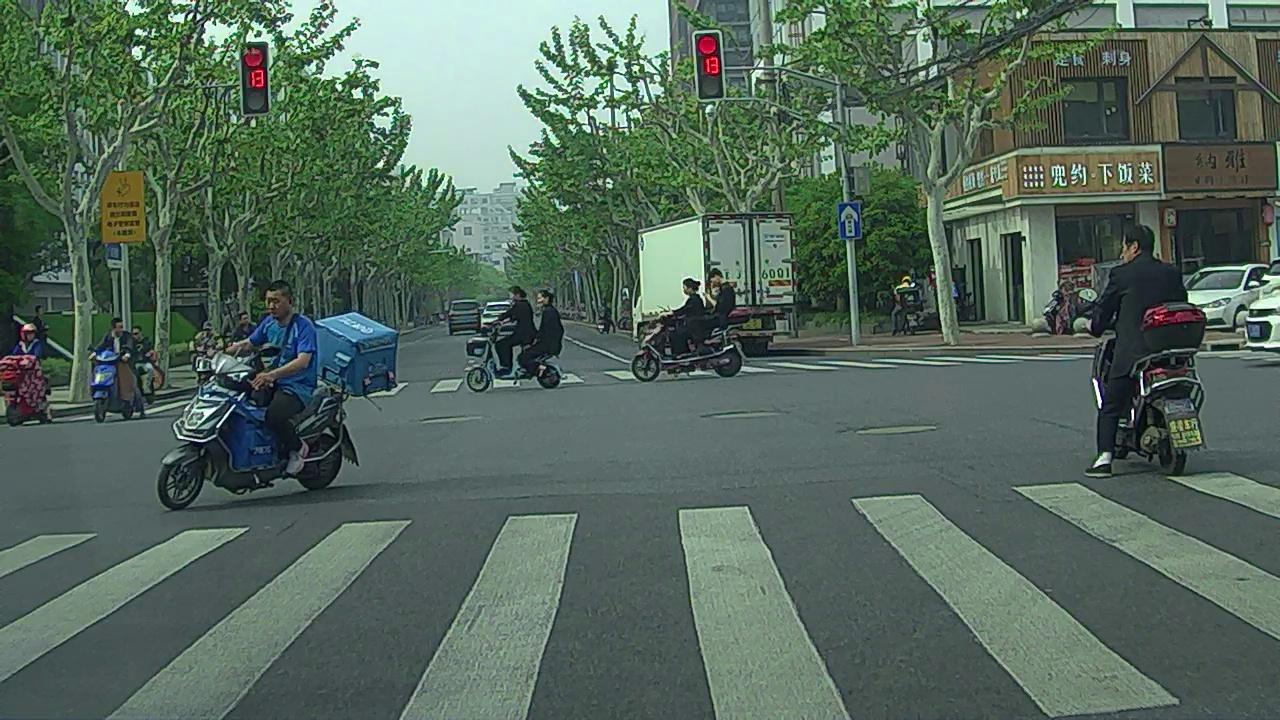traffic_light: (693, 32, 725, 101), (244, 42, 270, 111)
